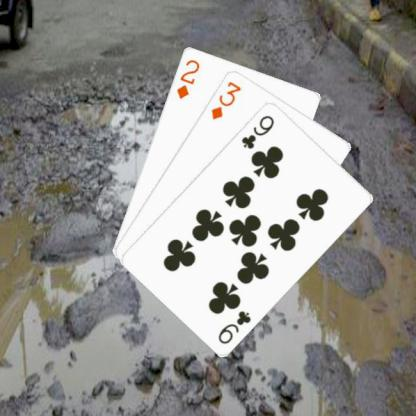2D: (173, 56, 201, 100)
3D: (208, 78, 243, 121)
9C: (238, 112, 276, 150), (215, 307, 253, 345)
